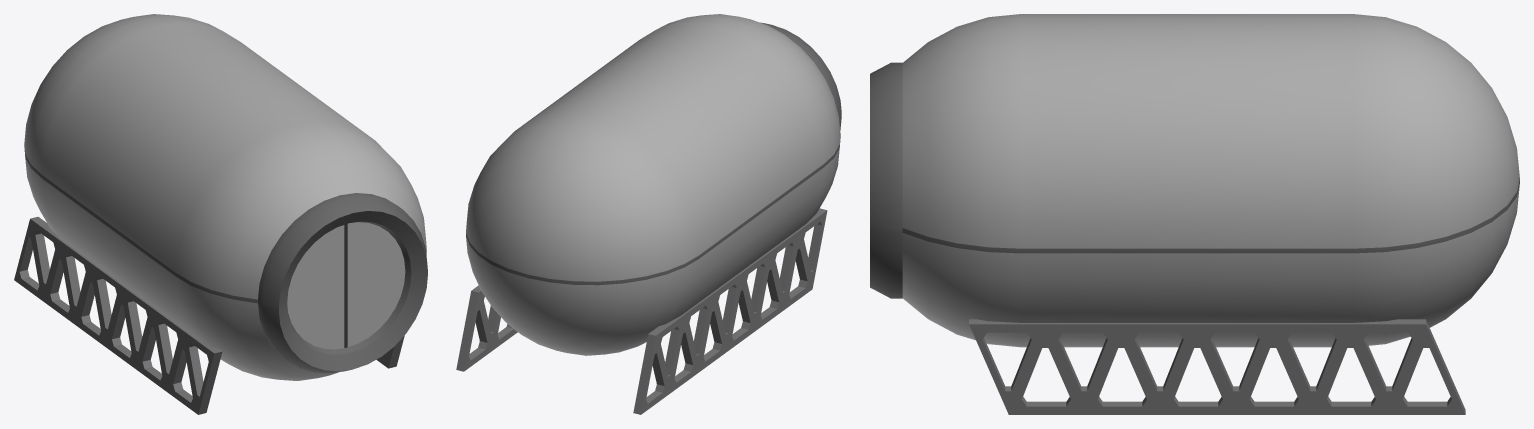
The model's file is habitat.glb.
3 views of the same model, side by side, from view 1: azimuth 30°, elevation 25°; view 2: azimuth 150°, elevation 25°; view 3: azimuth 270°, elevation 25° (orthographic). The views are drawn at different scales.
Visible parts, largest first — view 1: House_Long; view 2: House_Long; view 3: House_Long.
Part boxes in pixels (x1,y1,x2,y2): House_Long: (14, 14, 427, 414); House_Long: (456, 14, 841, 414); House_Long: (870, 14, 1519, 414).
Size of the model in its own units: 3.99 by 4.31 by 7.79.
Materials: 1 (1 with a texture image).
